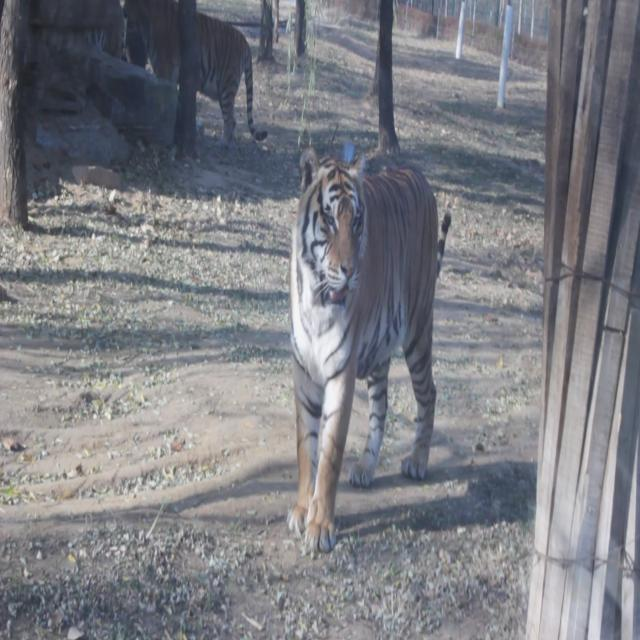Tiger: (272, 118, 458, 577), (121, 0, 270, 145)
